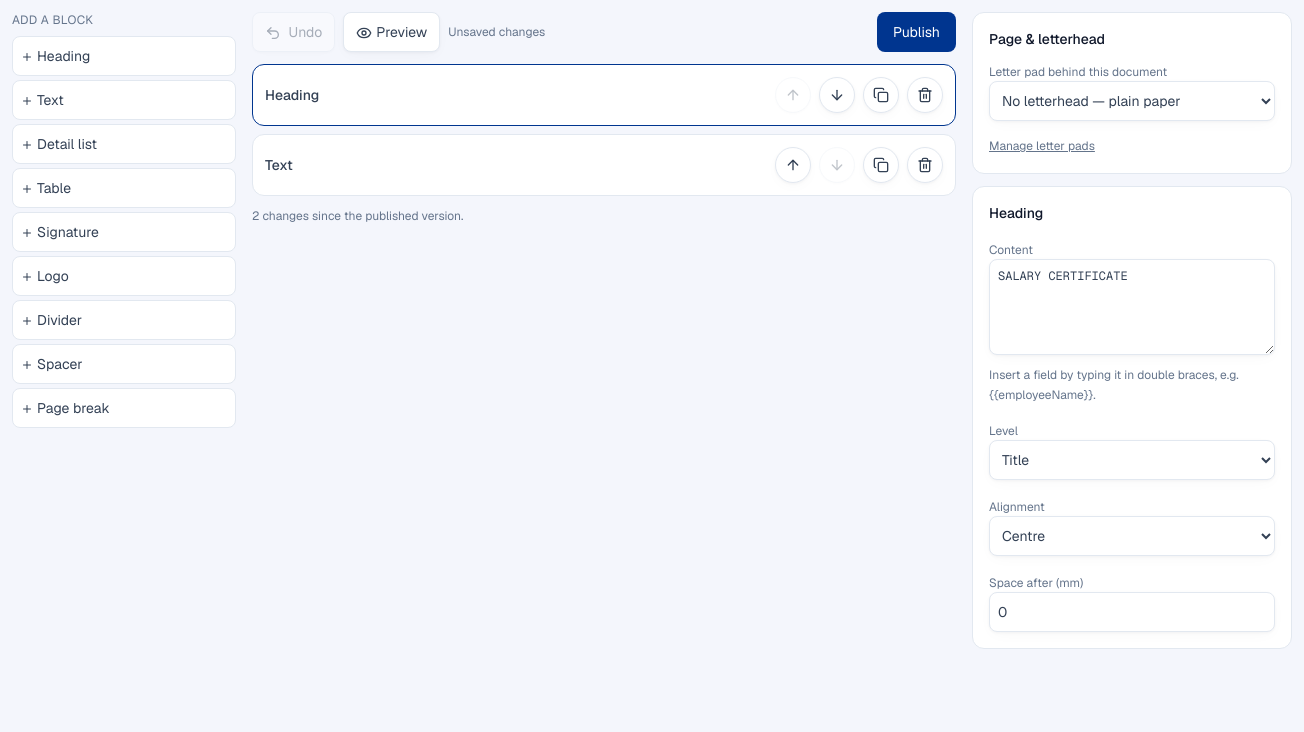
Test: TemplateBuilder › tells the user when the sanitizer removed something
Click the button "Detail list" at (124, 144), box x1=12 y1=124 x2=236 y2=164
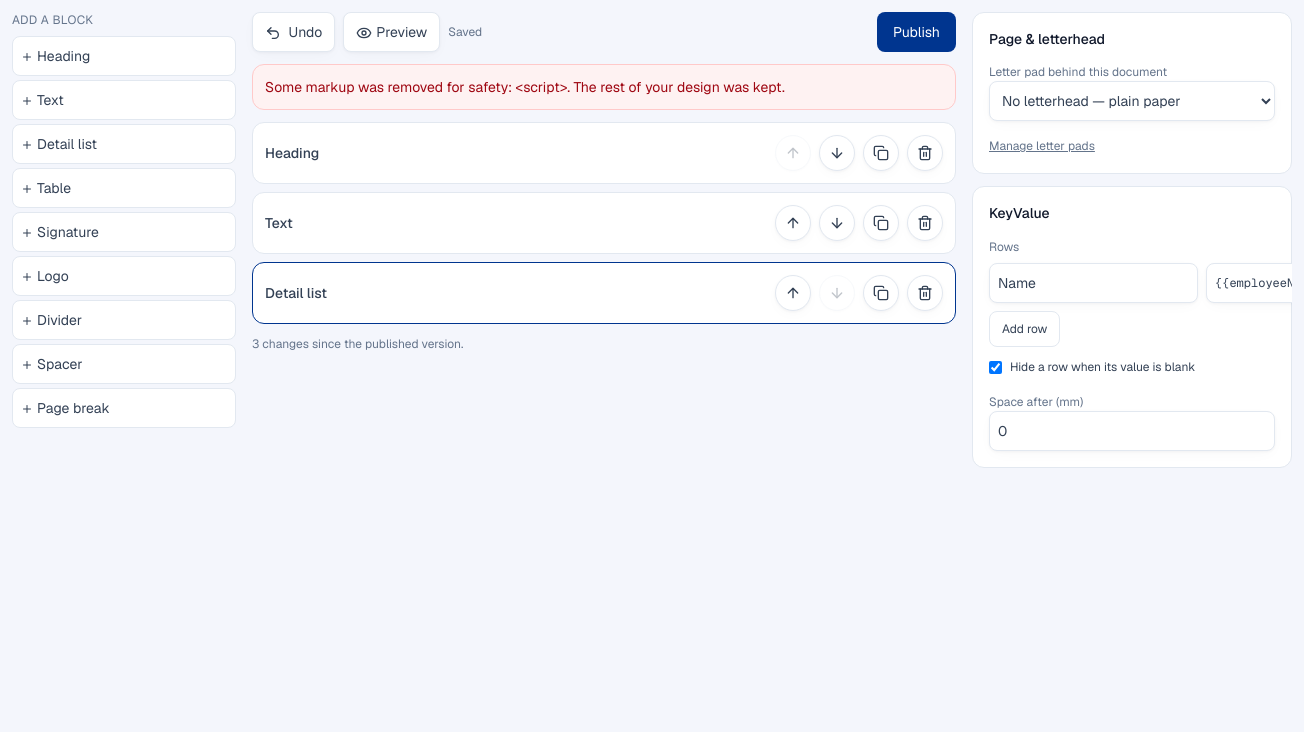
Check: the message shows "removed for safety", box x1=265 y1=78 x2=785 y2=96
